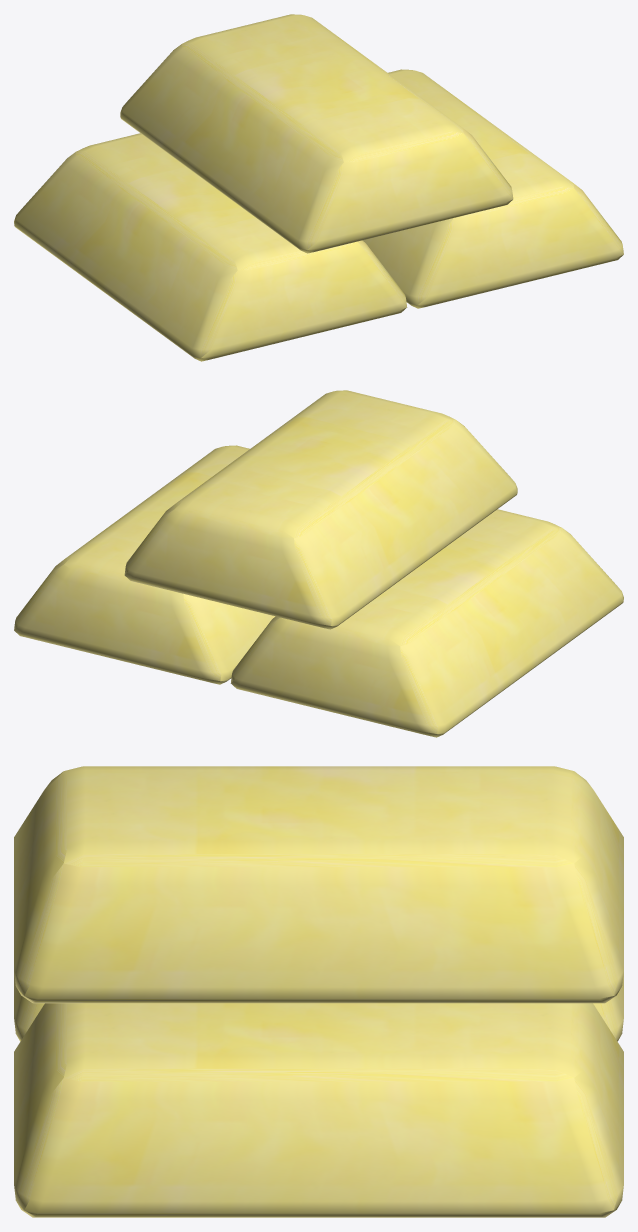
Rendered from goldbars.obj.
3 views of the same model, one above another, from view 1: azimuth 30°, elevation 25°; view 2: azimuth 150°, elevation 25°; view 3: azimuth 270°, elevation 25° (orthographic). The views are drawn at different scales.
Parts seen in each view (by area): view 1: Cube; view 2: Cube; view 3: Cube.
Boxes of the visible parts, left/top/right/bottom form: Cube: left=14, top=14, right=623, bottom=361; Cube: left=14, top=390, right=623, bottom=737; Cube: left=14, top=766, right=623, bottom=1217.
Size of the model in its own units: 1.25 by 0.4514 by 0.9771.
